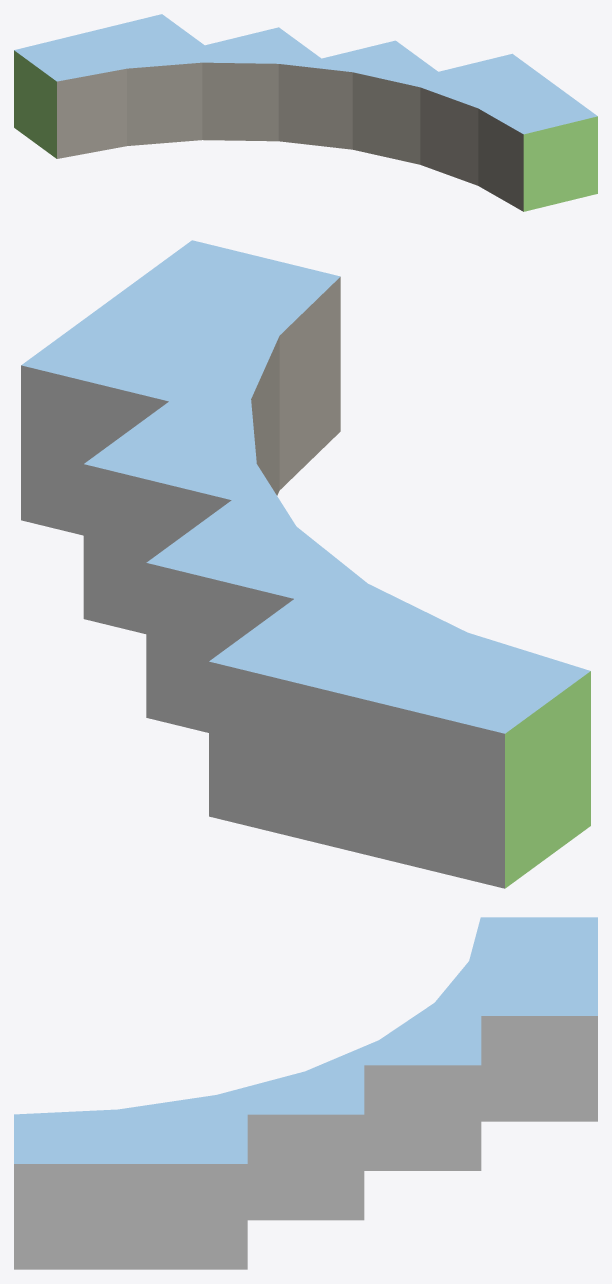
The model's file is Wall_Curve_Inner_5x5_Mid.glb.
The picture shows the model from 3 angles, top to bottom: view 1: azimuth 30°, elevation 25°; view 2: azimuth 150°, elevation 25°; view 3: azimuth 270°, elevation 25°; orthographic projection. The views are drawn at different scales.
Parts seen in each view (by area): view 1: Wall_Curve_Inner_5x5_Mid; view 2: Wall_Curve_Inner_5x5_Mid; view 3: Wall_Curve_Inner_5x5_Mid.
Part boxes in pixels (x1,y1,x2,y2): Wall_Curve_Inner_5x5_Mid: [14, 14, 597, 211]; Wall_Curve_Inner_5x5_Mid: [21, 240, 590, 888]; Wall_Curve_Inner_5x5_Mid: [14, 917, 597, 1269].
Size of the model in its own units: 500 by 100 by 500.
